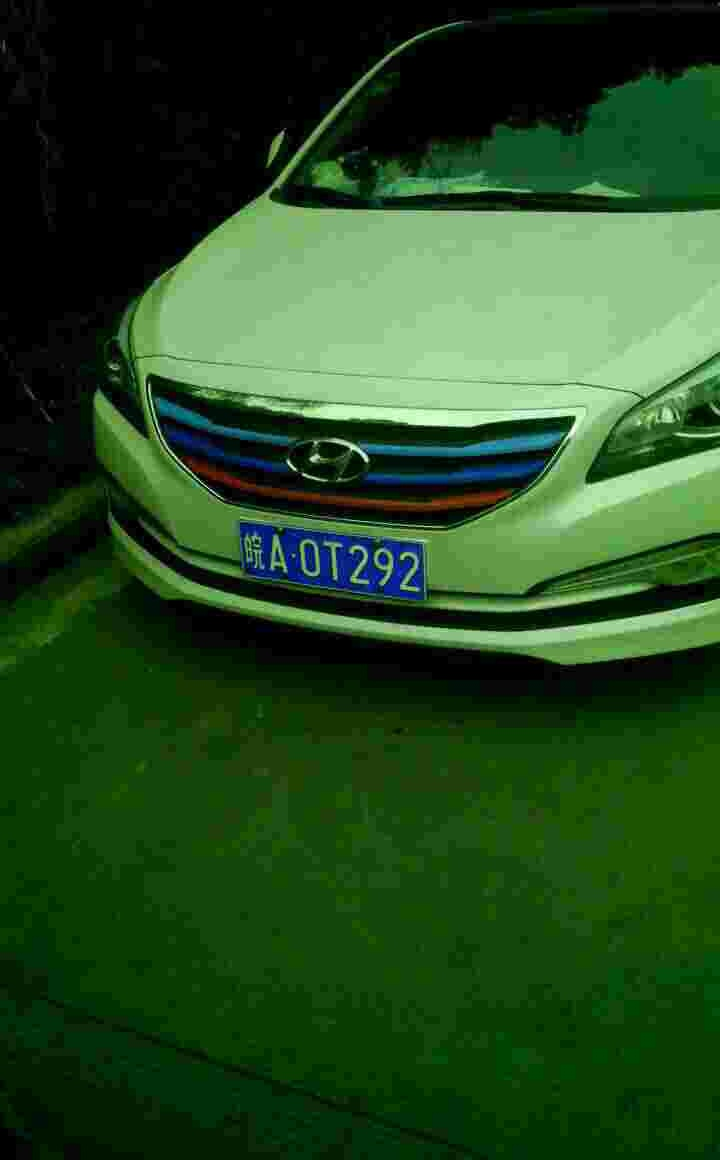license_plate: (234, 518, 421, 601)
